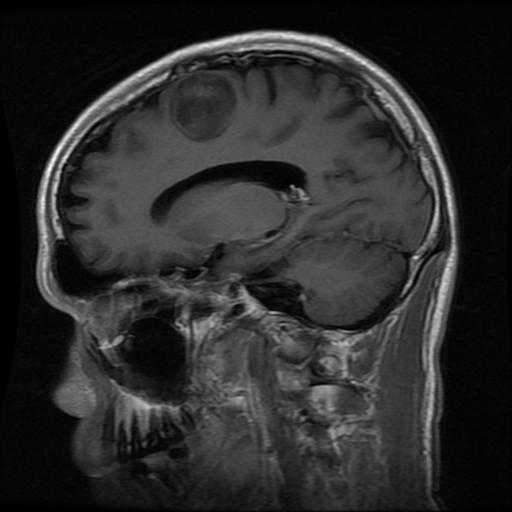Gliomia_tumour: (171, 71, 236, 140)
